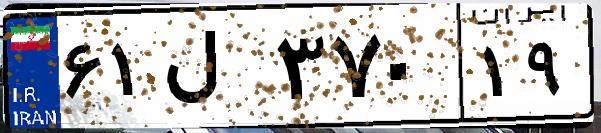0: (385, 28, 445, 110)
1: (475, 38, 525, 113), (110, 28, 158, 98)
3: (270, 28, 330, 110)
6: (57, 26, 110, 100)
7: (330, 28, 385, 110)
9: (525, 38, 570, 115)
ل: (158, 20, 270, 120)
